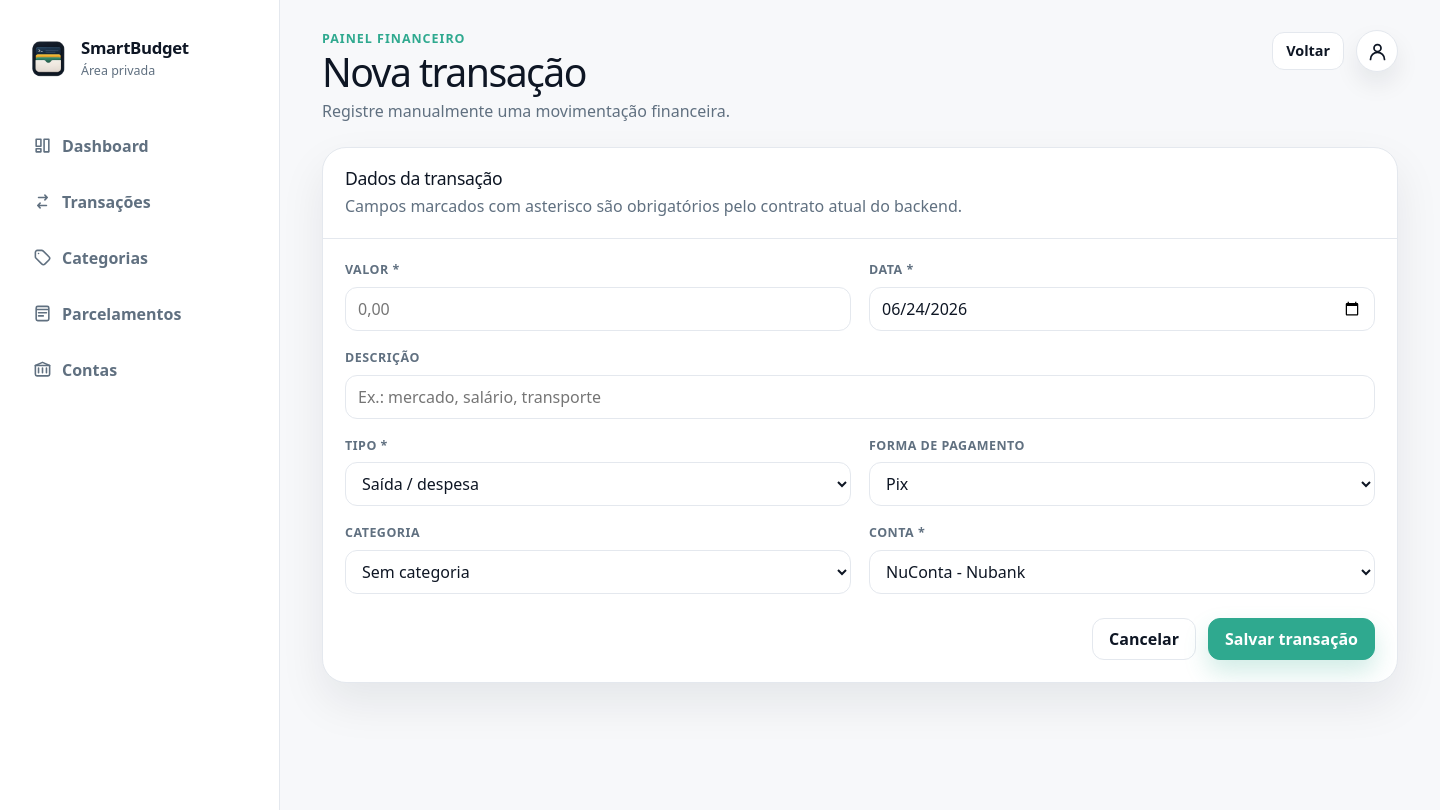
Página NovaTransacao › deve exibir erros de validação dos campos obrigatórios atuais ao submeter formulário inválido
expect the number field labelled "Valor *" is shown: met, box [345,287,851,331]
Clear the date field labelled "Data *": (1122, 309) [869,287,1375,331]
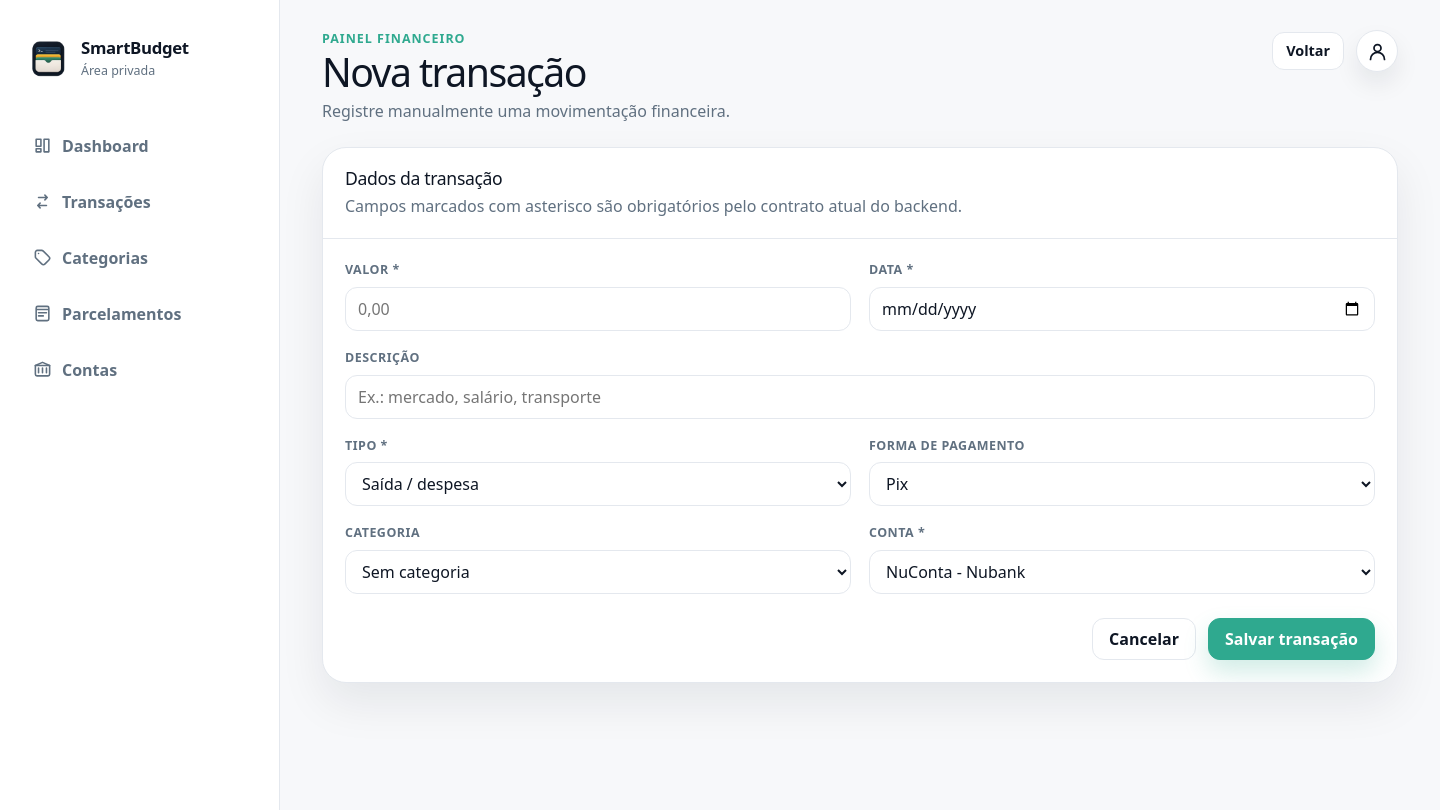
Select "Selecione uma conta" in the dropdown labelled "Conta *": (1122, 572) [869,550,1375,594]
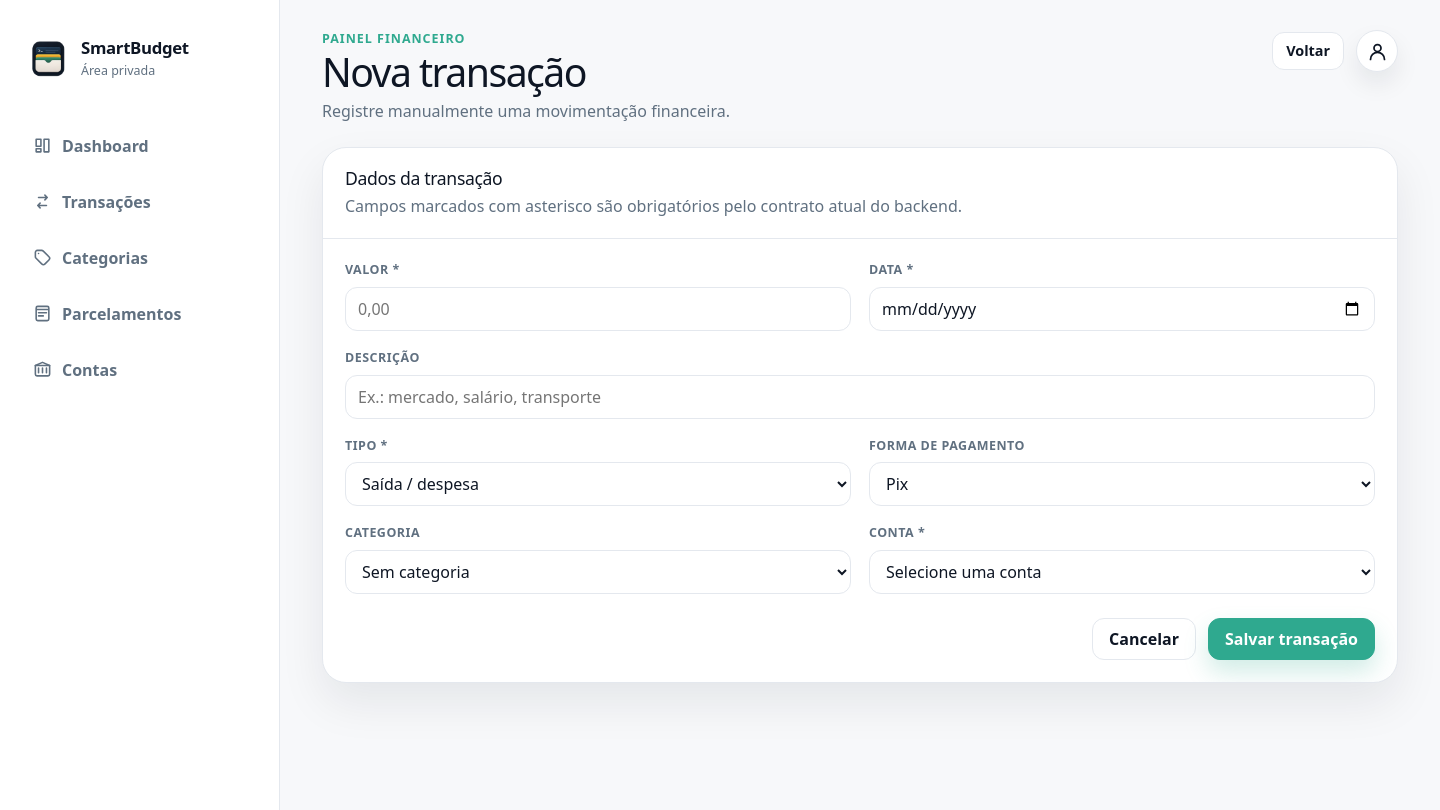
Click the button "Salvar transação": click(1292, 639) [1208,618,1375,660]
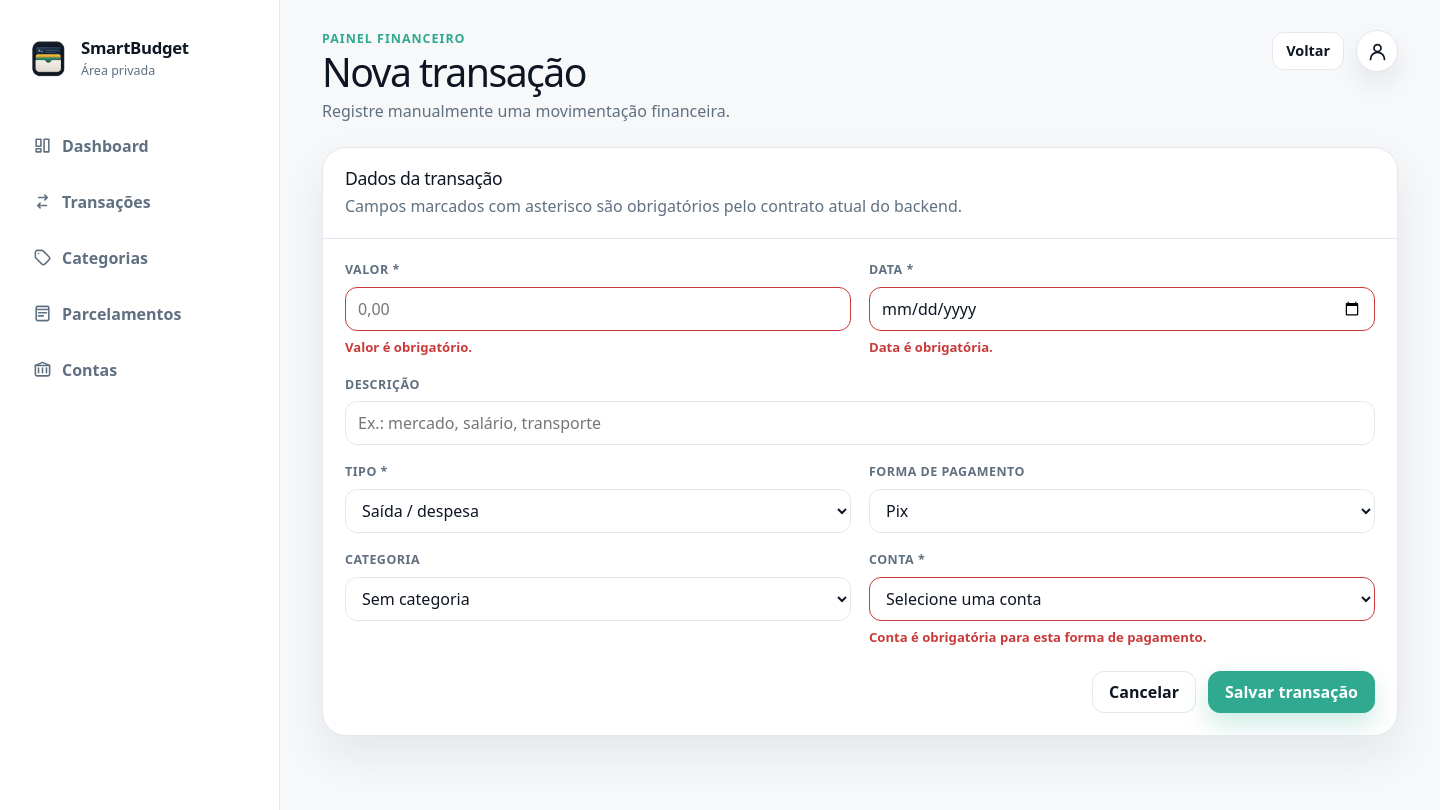
expect the text "Valor é obrigatório." is shown: met, box [345,338,472,356]
expect the text "Data é obrigatória." is shown: met, box [869,338,993,356]
expect the text "Conta é obrigatória para esta forma de pagamento." is shown: met, box [869,628,1206,646]
